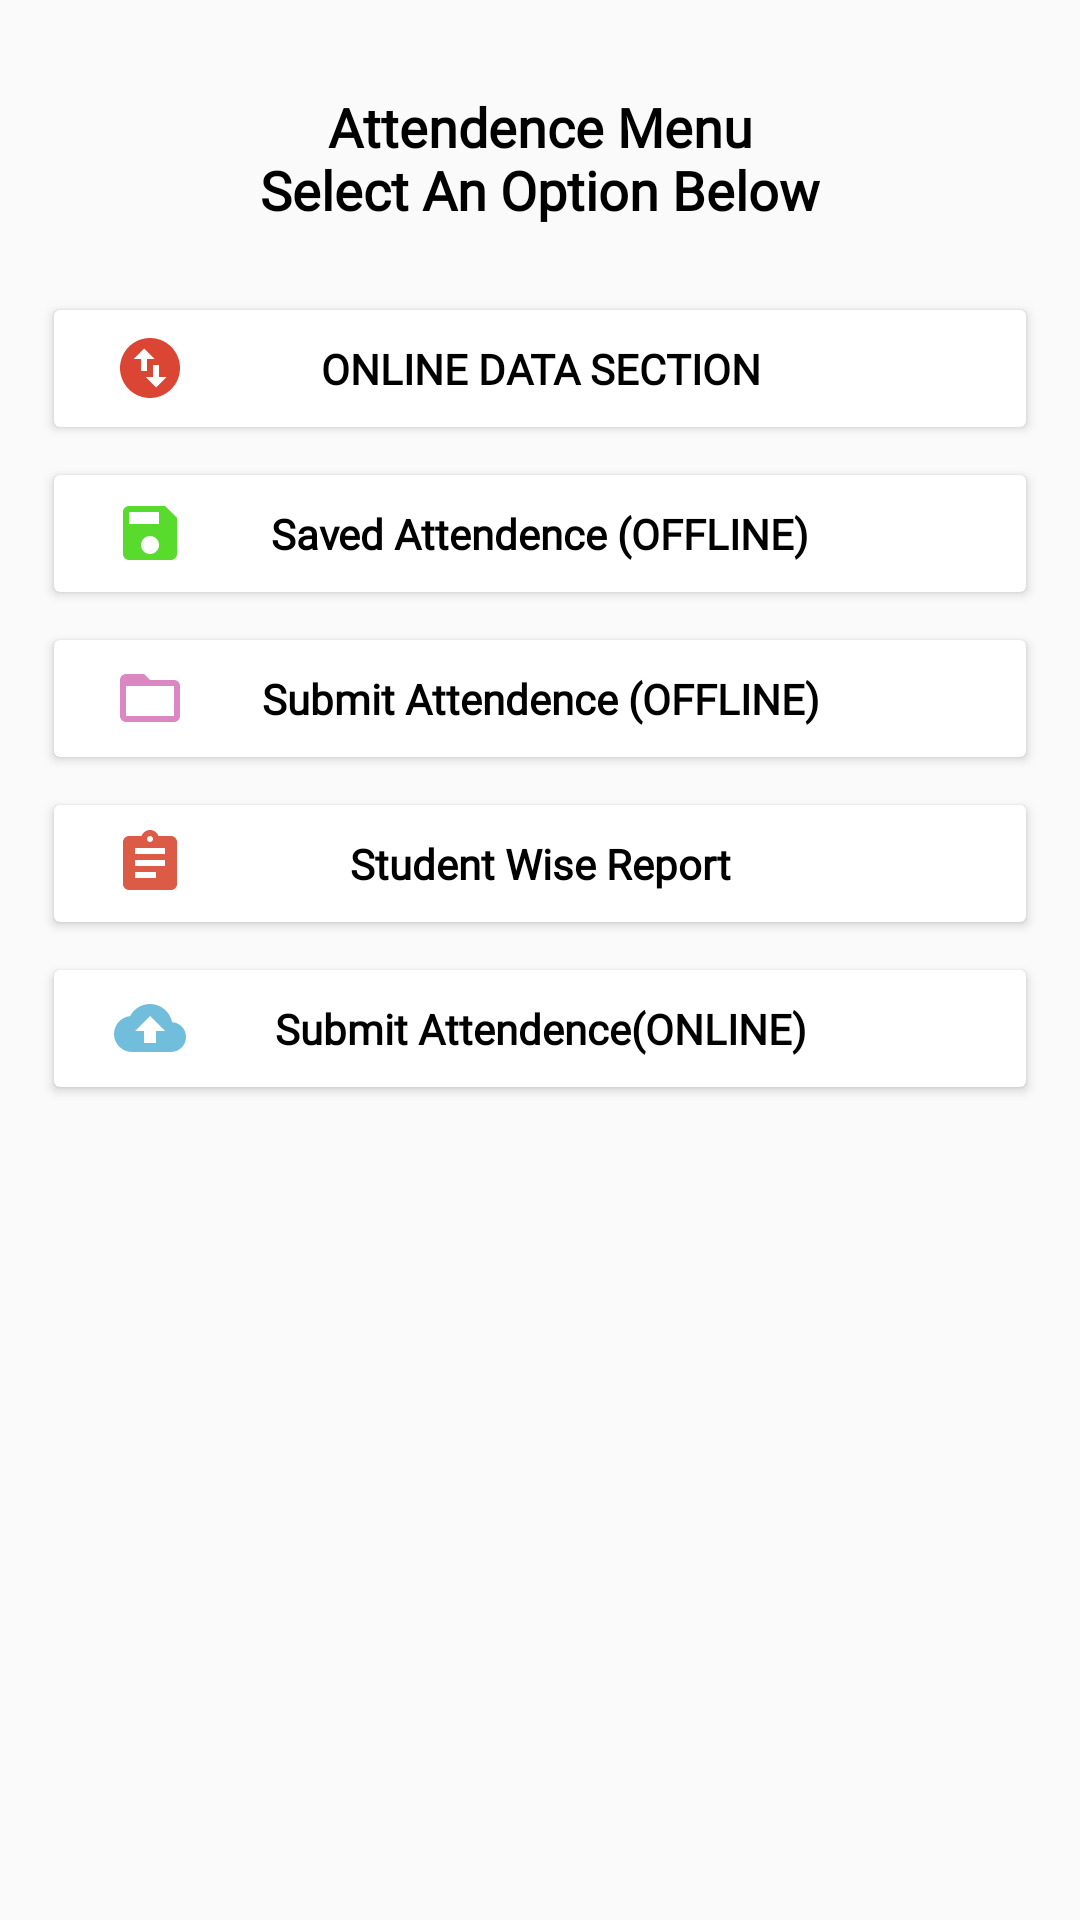

Screen size 1080 x 1920. Icon name, then its center in pixels as (x=x, y=y):
assignment: (x=150, y=860)
cloud upload: (x=150, y=1028)
folder open: (x=150, y=698)
swap vertical circle: (x=150, y=368)
